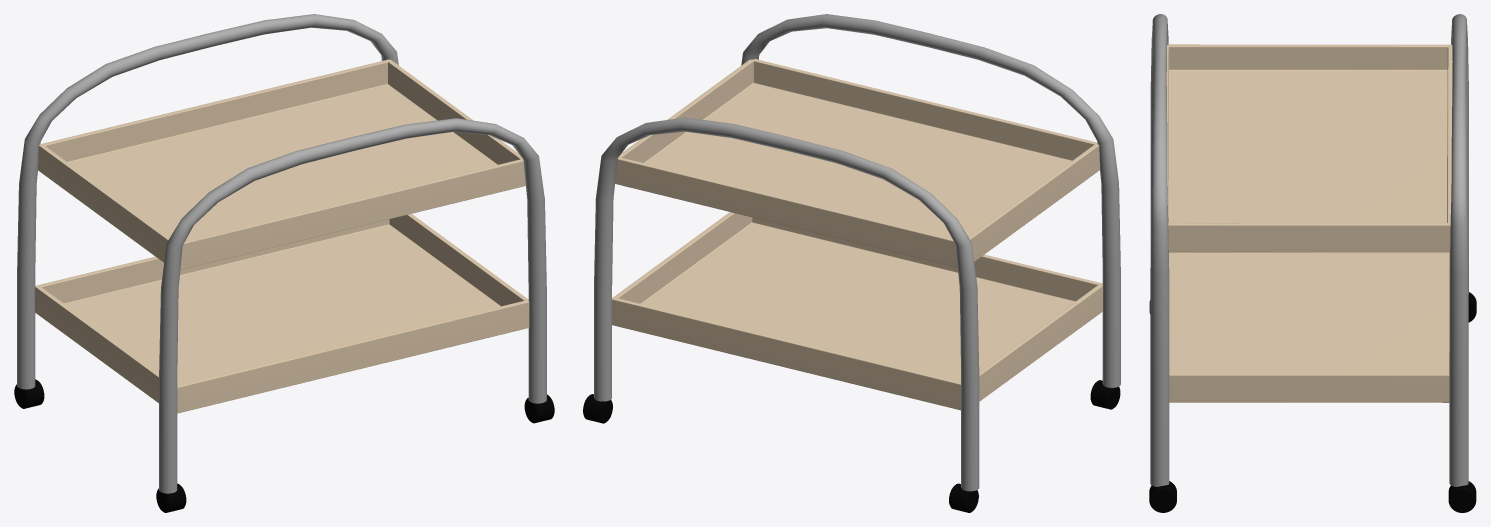
Rendered from foodcart 006.fbx.
3 renders of one model, left to right at view 1: azimuth 30°, elevation 25°; view 2: azimuth 150°, elevation 25°; view 3: azimuth 270°, elevation 25°, orthographic. The views are drawn at different scales.
Parts seen in each view (by area): view 1: foodcart_06; view 2: foodcart_06; view 3: foodcart_06.
Part boxes in pixels (box(x1,y1,x2,y2)): foodcart_06: box(14, 14, 554, 512); foodcart_06: box(583, 14, 1120, 512); foodcart_06: box(1149, 14, 1476, 512).
Bounding box in the file's own units: 2.96 × 2.39 × 2.04.
